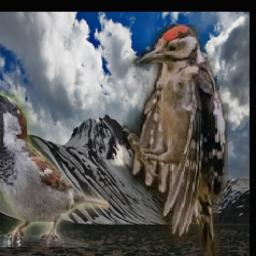Sparrow: (0, 91, 109, 247)
Woodpecker: (123, 25, 228, 256)
